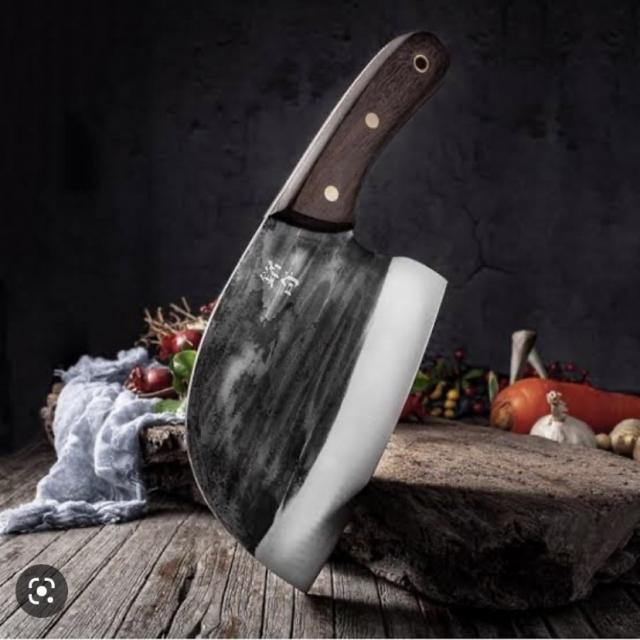Knife: (180, 24, 480, 606)
